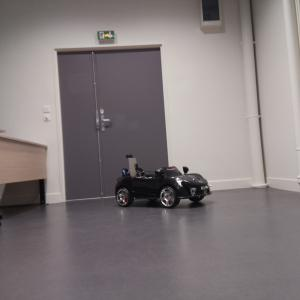big: (112, 166, 214, 212)
